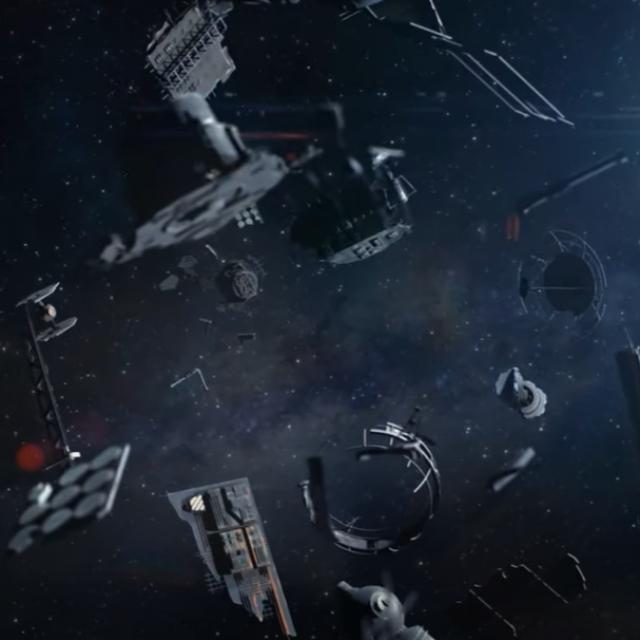large_debris: (91, 2, 433, 315), (7, 274, 143, 570), (335, 0, 588, 144), (490, 144, 640, 345), (152, 464, 299, 640), (285, 415, 453, 564), (458, 538, 600, 640), (160, 321, 266, 402), (319, 574, 446, 640), (480, 354, 558, 436), (470, 445, 547, 503)
